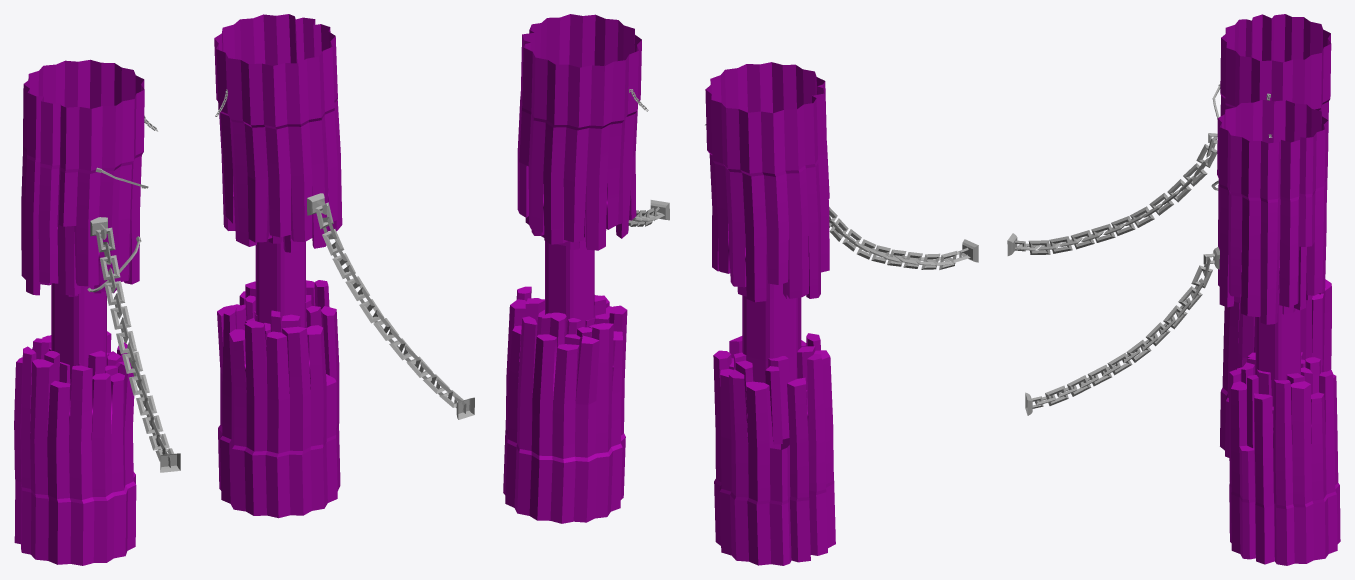
File: Entrance_Mine 1.fbx
The picture shows the model from 3 angles, left to right: view 1: azimuth 30°, elevation 25°; view 2: azimuth 150°, elevation 25°; view 3: azimuth 270°, elevation 25°; orthographic projection. The views are drawn at different scales.
Parts seen in each view (by area): view 1: polySurface1218, polySurface1221; view 2: polySurface1218, polySurface1221; view 3: polySurface1218, polySurface1221.
Boxes of the visible parts, x1,y1,x2,y2 form: polySurface1218: [14, 14, 342, 565]; polySurface1221: [87, 89, 474, 472]; polySurface1218: [503, 14, 835, 565]; polySurface1221: [628, 89, 978, 269]; polySurface1218: [1217, 14, 1340, 565]; polySurface1221: [1007, 84, 1272, 415].
Size of the model in its own units: 46.64 by 63.88 by 45.85.
